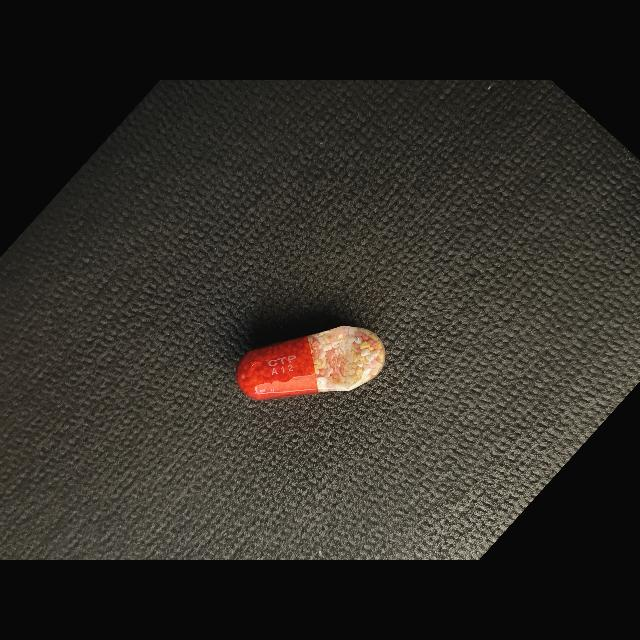Defective Capsule: (236, 326, 385, 400)
